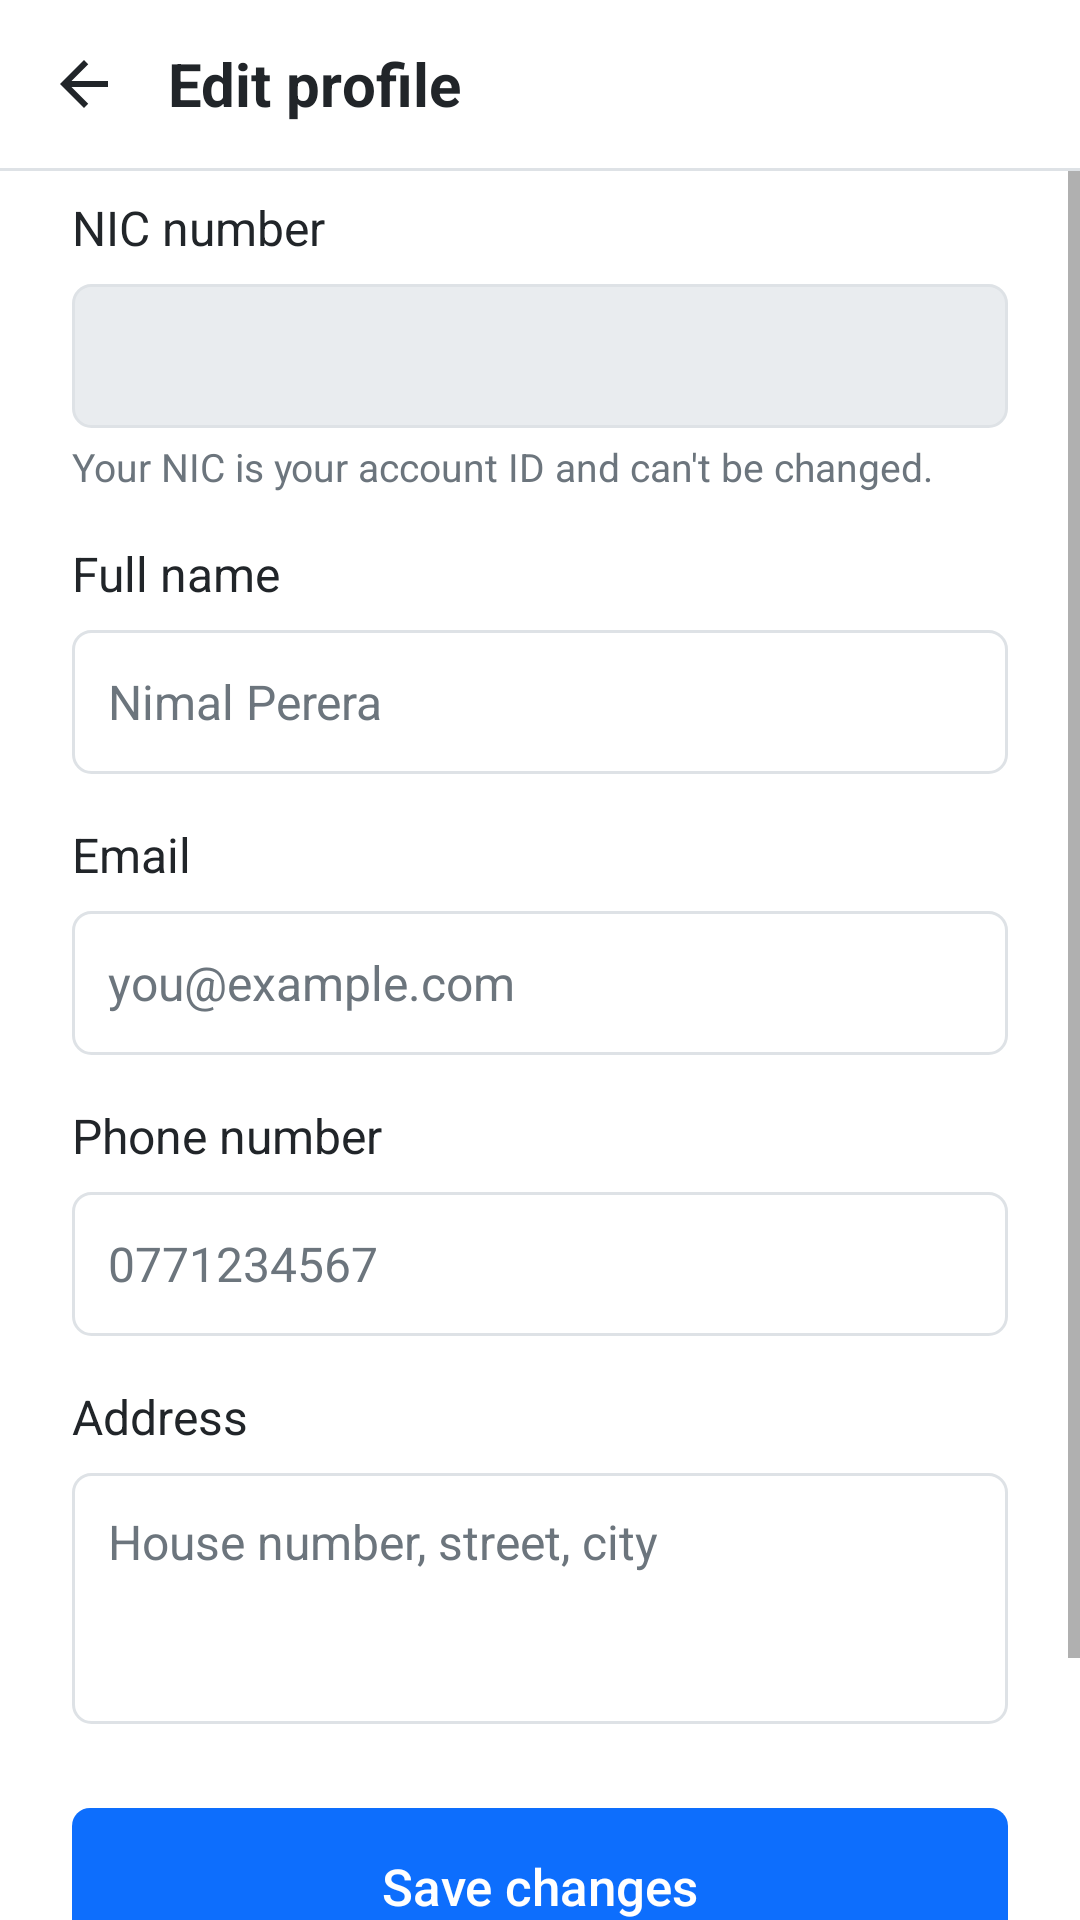

Icon bounding boxes for this 1080 × 1920 phone screenshot, format (left=x1, top=y1, right=x2, bottom=y2):
Back to profile: (left=60, top=60, right=108, bottom=108)
